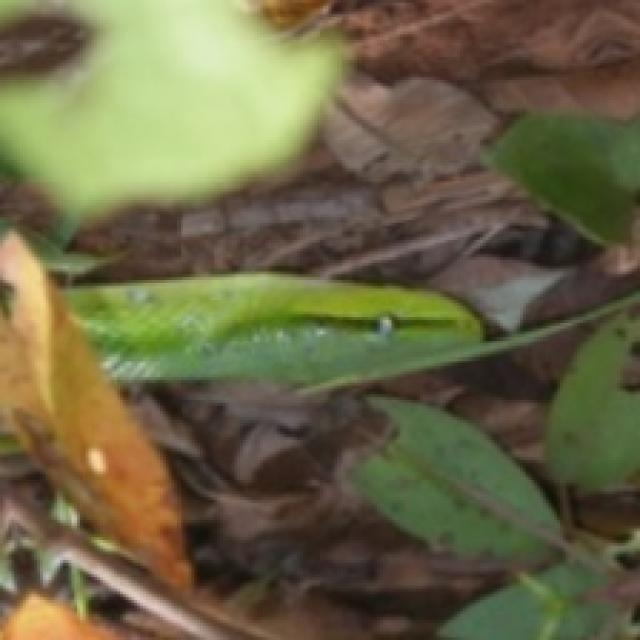red-tailed green ratsnake: (66, 274, 482, 386)
